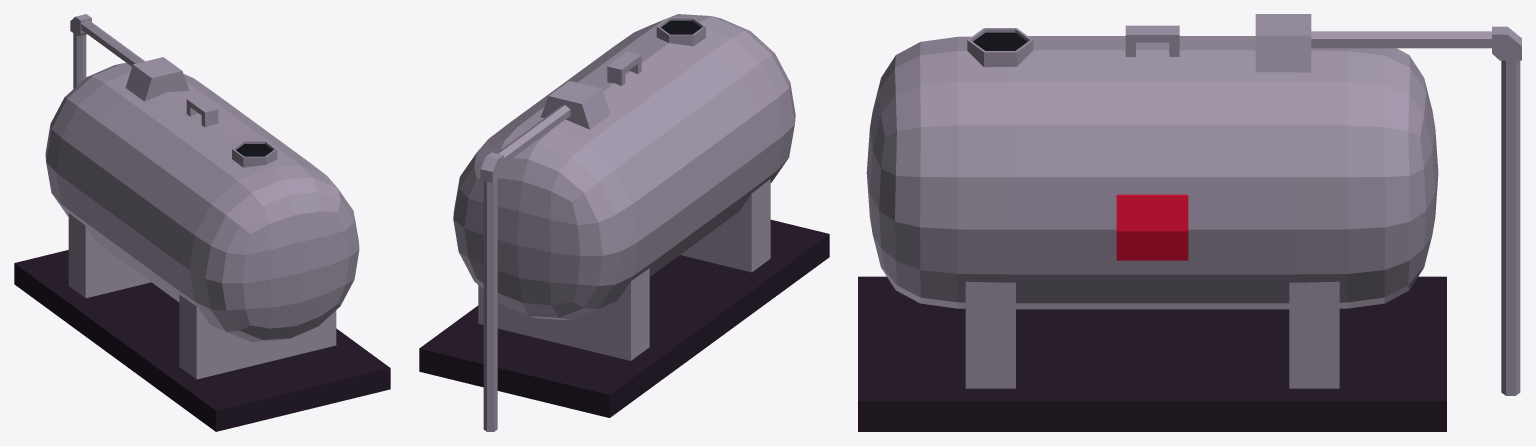
The model's file is gas-tank-2.fbx.
The picture shows the model from 3 angles, left to right: view 1: azimuth 30°, elevation 25°; view 2: azimuth 150°, elevation 25°; view 3: azimuth 270°, elevation 25°; orthographic projection. The views are drawn at different scales.
Parts seen in each view (by area): view 1: tank, stand, pipe; view 2: tank, stand, pipe; view 3: tank, stand, pipe.
Boxes of the visible parts, <box> form: tank: <box>45,57,359,379</box>; stand: <box>14,250,390,431</box>; pipe: <box>70,14,144,88</box>; tank: <box>453,14,795,360</box>; stand: <box>419,219,829,417</box>; pipe: <box>480,105,570,431</box>; tank: <box>866,14,1438,388</box>; stand: <box>858,276,1446,431</box>; pipe: <box>1311,26,1521,395</box>.
Bounding box in the file's own units: 250 × 344 × 564.
1 material, 1 textured.
